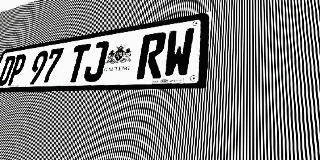7: (40, 48, 64, 84)
9: (26, 50, 50, 85)
D: (0, 55, 17, 86)
J: (82, 40, 110, 82)
P: (6, 53, 28, 86)
R: (136, 31, 167, 79)
T: (65, 43, 91, 83)
W: (162, 27, 195, 78)
